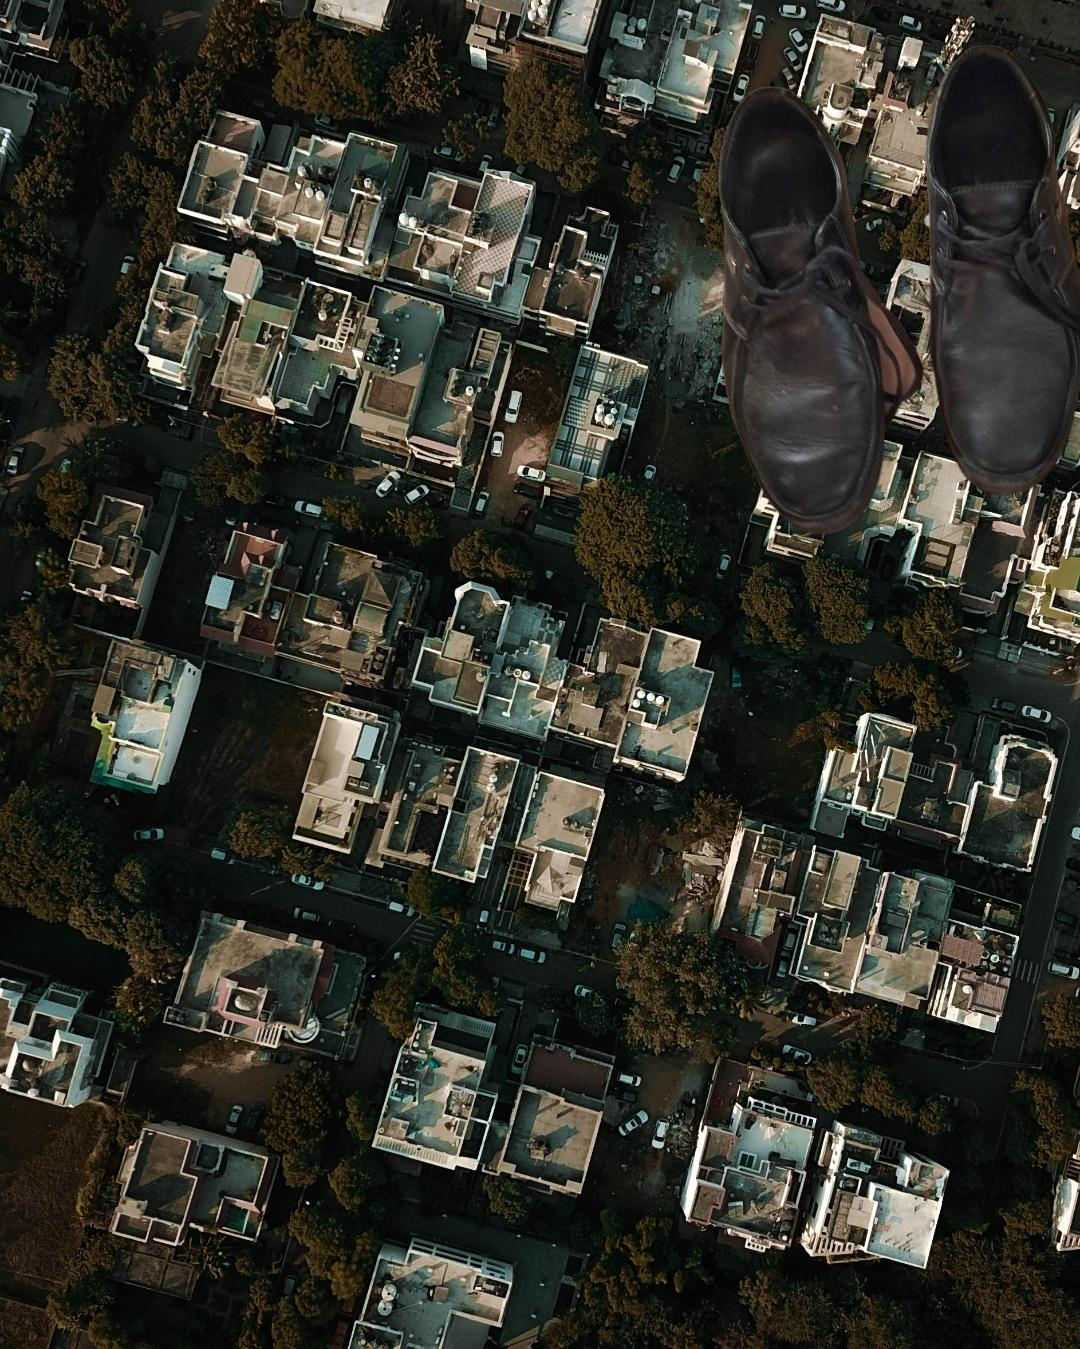shoes: (715, 40, 1080, 540)
